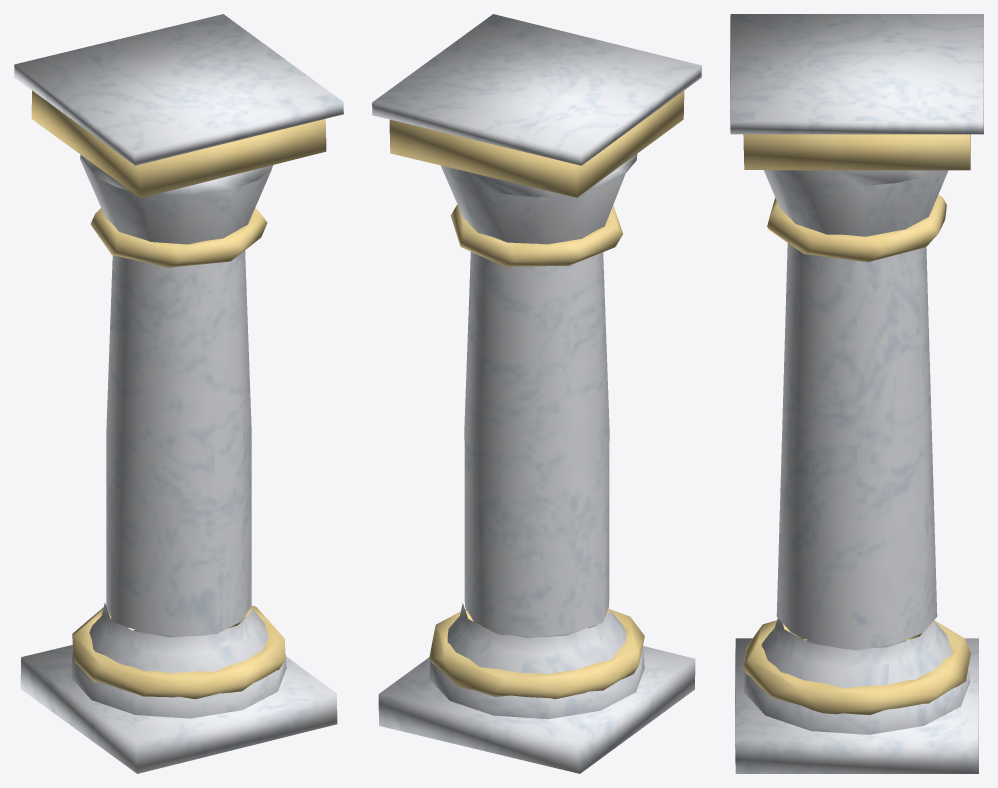
The model's file is temple_column_short_lod1.gltf.
The picture shows the model from 3 angles, left to right: view 1: azimuth 30°, elevation 25°; view 2: azimuth 150°, elevation 25°; view 3: azimuth 270°, elevation 25°; orthographic projection. The views are drawn at different scales.
Parts seen in each view (by area): view 1: temple_column_short_LOD1; view 2: temple_column_short_LOD1; view 3: temple_column_short_LOD1.
Boxes of the visible parts, x1,y1,x2,y2 form: temple_column_short_LOD1: (14,14,343,773); temple_column_short_LOD1: (372,14,701,773); temple_column_short_LOD1: (730,14,983,773).
Size of the model in its own units: 0.8488 by 2.42 by 0.848.
Materials: 1 (1 with a texture image).
